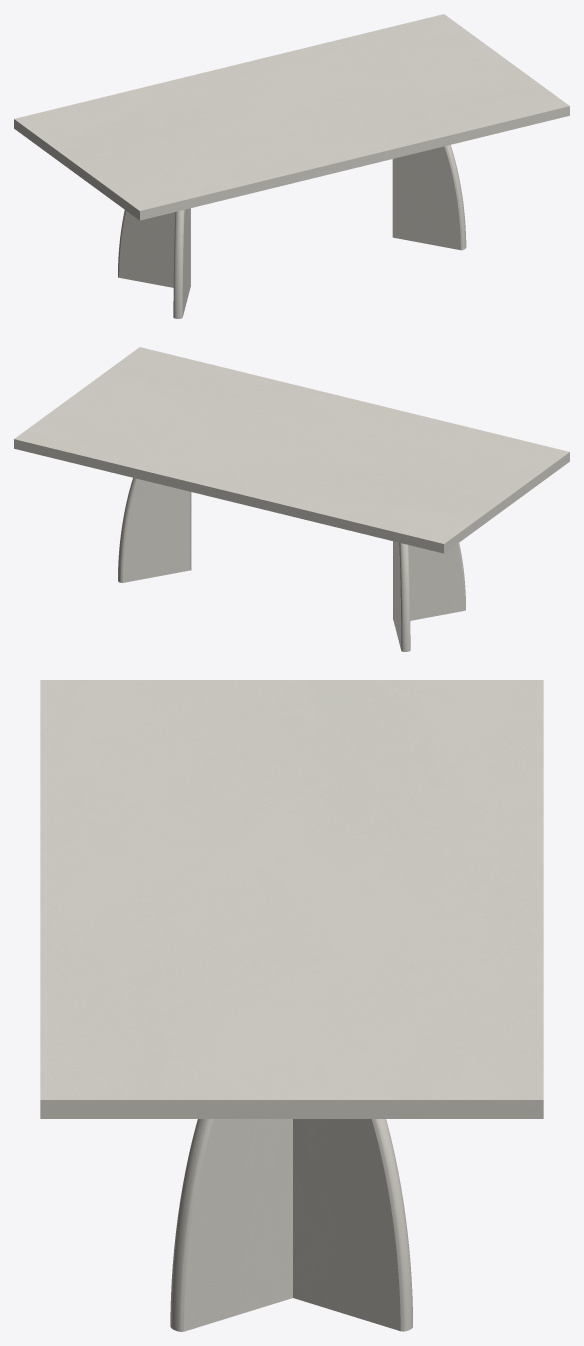
Rendered from pale_recta_standard_newtable2.glb.
3 renders of one model, top to bottom at view 1: azimuth 30°, elevation 25°; view 2: azimuth 150°, elevation 25°; view 3: azimuth 270°, elevation 25°, orthographic. The views are drawn at different scales.
Visible parts, largest first — view 1: standard_recta, newtable2_singleright2, newtable2_singleleft1, newtable2_singleright1; view 2: standard_recta, newtable2_singleleft2, newtable2_singleright1, newtable2_singleleft1; view 3: standard_recta, newtable2_singleright2, newtable2_singleleft2.
Boxes of the visible parts, x1,y1,x2,y2 form: standard_recta: (14, 14, 569, 220); newtable2_singleright2: (392, 145, 466, 250); newtable2_singleleft1: (118, 208, 190, 287); newtable2_singleright1: (173, 208, 190, 318); standard_recta: (14, 347, 569, 553); newtable2_singleleft2: (118, 478, 190, 582); newtable2_singleright1: (393, 541, 465, 620); newtable2_singleleft1: (393, 541, 410, 651); standard_recta: (40, 680, 543, 1118); newtable2_singleright2: (170, 1119, 292, 1331); newtable2_singleleft2: (293, 1119, 412, 1331).
Bounding box in the file's own units: 7.5 × 2.49 × 3.8.
Materials: 1 (1 with a texture image).
